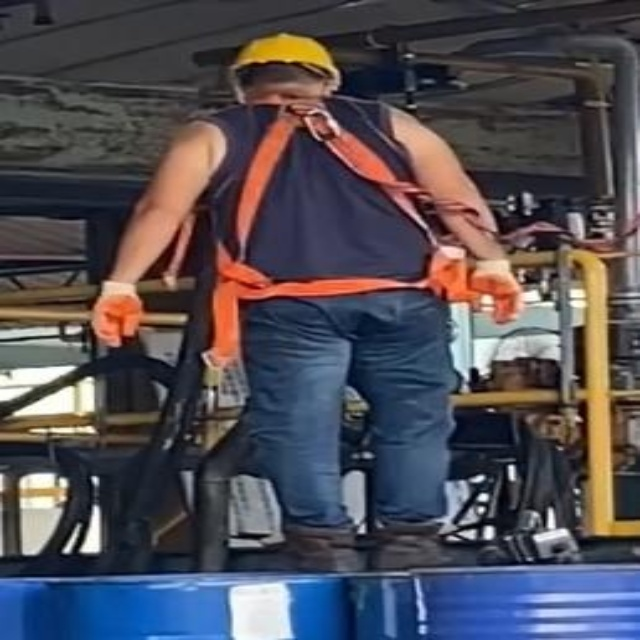Arnes_seguridad: (197, 105, 480, 386)
